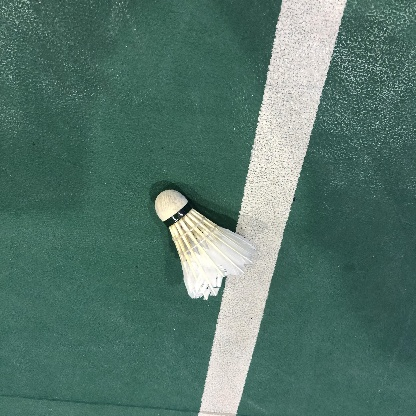ball_single: (155, 190, 257, 300)
